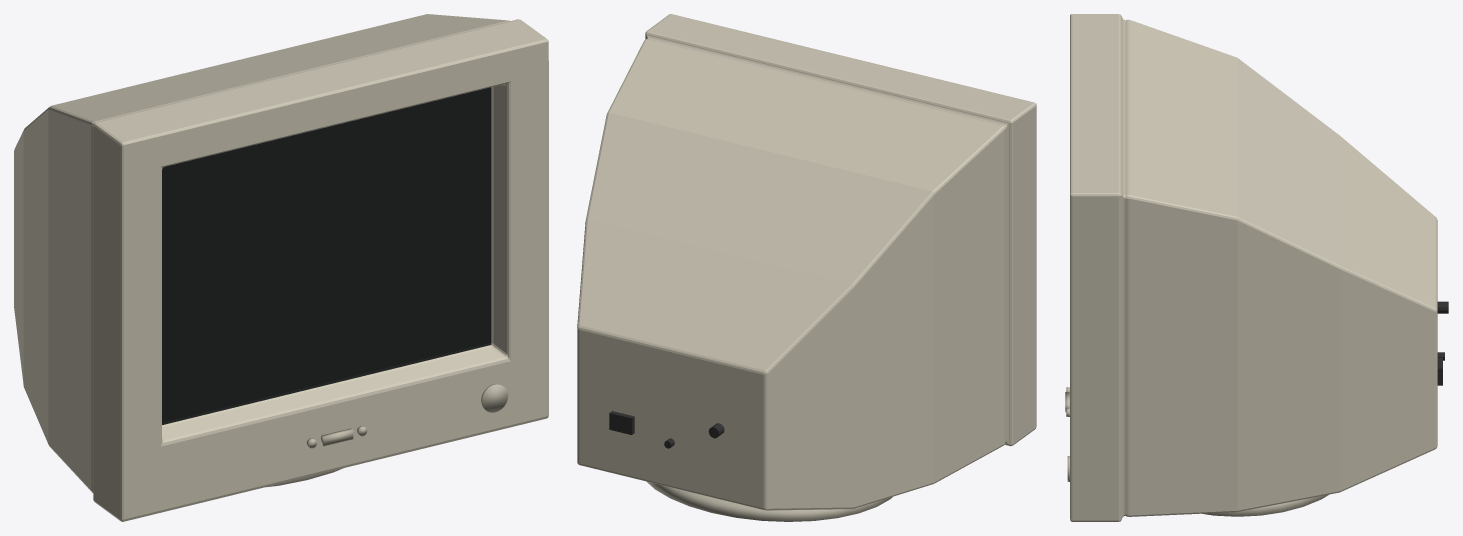
File: crt_monitor.glb
3 renders of one model, left to right at view 1: azimuth 30°, elevation 25°; view 2: azimuth 150°, elevation 25°; view 3: azimuth 270°, elevation 25°, orthographic. The views are drawn at different scales.
Parts seen in each view (by area): view 1: CrtShell, CrtTrim; view 2: CrtShell, CrtTrim, CrtPorts; view 3: CrtShell, CrtTrim.
Part boxes in pixels (left/top/right/bottom): CrtShell: left=14, top=14, right=548, bottom=521; CrtTrim: left=266, top=384, right=508, bottom=487; CrtShell: left=577, top=14, right=1036, bottom=510; CrtTrim: left=647, top=481, right=892, bottom=521; CrtPorts: left=609, top=411, right=724, bottom=448; CrtShell: left=1070, top=14, right=1437, bottom=521; CrtTrim: left=1065, top=387, right=1328, bottom=516.
Bounding box in the file's own units: 0.46 × 0.42 × 0.412.
